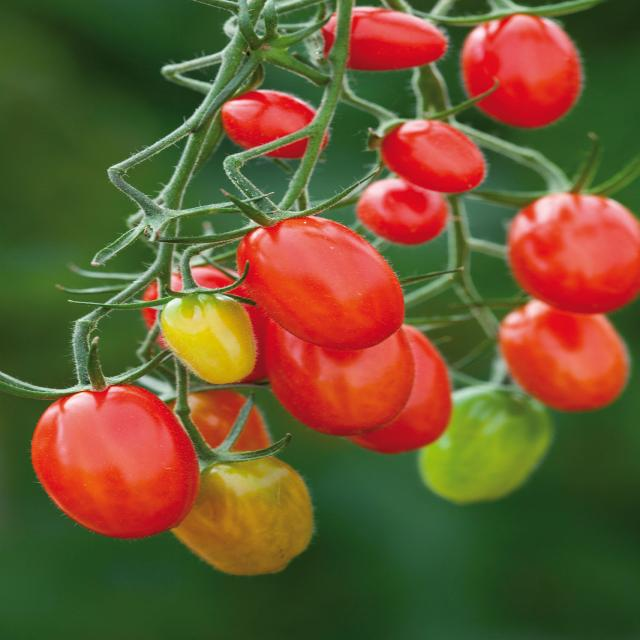damaged: (177, 450, 320, 584)
fine: (156, 283, 262, 393)
overripe: (21, 379, 208, 541), (234, 220, 414, 344), (262, 320, 415, 438), (455, 3, 597, 130), (504, 184, 640, 310), (497, 296, 636, 411), (357, 317, 457, 460), (315, 6, 453, 77), (369, 116, 496, 191), (218, 86, 334, 161), (350, 176, 454, 246)
unripe: (420, 376, 550, 508)
